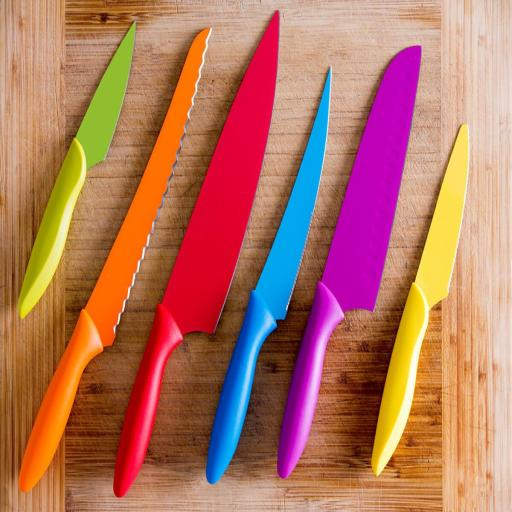knife: (97, 8, 300, 501)
